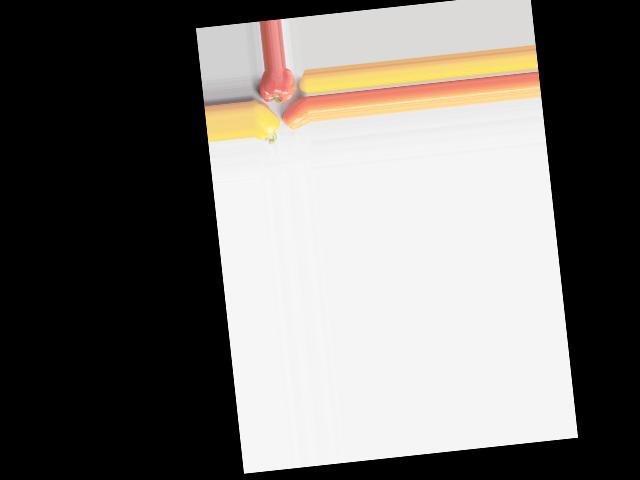bell_pepper: (254, 68, 296, 104)
